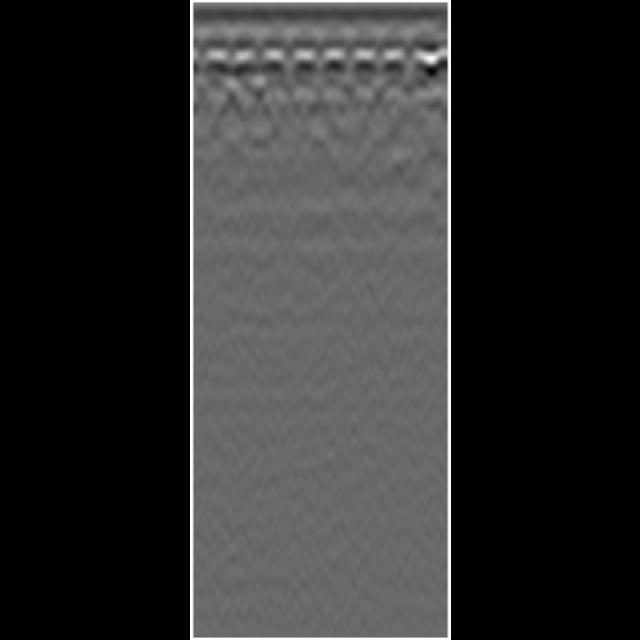hyperbola: (224, 45, 262, 87), (253, 46, 290, 84), (197, 48, 233, 84), (314, 48, 352, 82), (286, 41, 316, 81), (343, 48, 379, 78), (375, 52, 411, 78)
